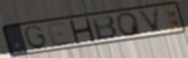B: (90, 14, 120, 42)
E: (45, 20, 74, 48)
G: (22, 24, 49, 50)
H: (68, 17, 97, 45)
Q: (115, 11, 145, 38)
V: (135, 5, 162, 35)
